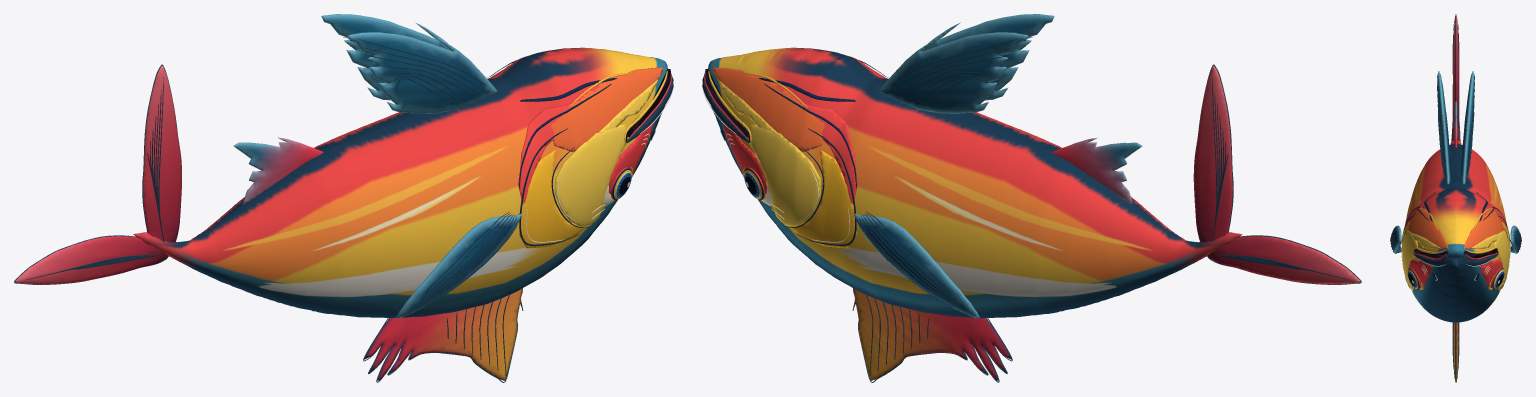
The model's file is hero-tuna.glb.
3 views of the same model, side by side, from view 1: azimuth 30°, elevation 25°; view 2: azimuth 150°, elevation 25°; view 3: azimuth 270°, elevation 25° (orthographic). The views are drawn at different scales.
Parts seen in each view (by area): view 1: Web Painted body, Web Painted fin membranes, Web Painted fin membranes.001, Web Anatomy operculum, Web Anatomy jaw, Web Fin ray pigment, Web Anatomy suboperculum, Web Anatomy membrane, Web Anatomy ink, Web Fin ray pigment.001, Web Anatomy brow, Web Glazed fin edges.001 (+2 smaller); view 2: Web Painted body, Web Painted fin membranes, Web Painted fin membranes.001, Web Anatomy operculum, Web Anatomy jaw, Web Anatomy suboperculum, Web Fin ray pigment, Web Anatomy membrane, Web Anatomy ink, Web Fin ray pigment.001, Web Anatomy brow, Web Glazed fin edges.001 (+1 smaller); view 3: Web Painted body, Web Painted fin membranes, Web Anatomy jaw, Web Anatomy operculum, Web Fin ray pigment, Web Anatomy brow, Web Painted fin membranes.001, Web Anatomy maxilla, Web Anatomy ink, Web Anatomy gold, Web Anatomy mouth, Web Anatomy membrane (+6 smaller).
Boxes of the visible parts, x1=… form: Web Painted body: x1=133, y1=47, x2=667, y2=317; Web Painted fin membranes: x1=233, y1=14, x2=522, y2=381; Web Painted fin membranes.001: x1=15, y1=66, x2=181, y2=284; Web Anatomy operculum: x1=555, y1=124, x2=628, y2=226; Web Anatomy jaw: x1=551, y1=67, x2=663, y2=151; Web Fin ray pigment: x1=343, y1=37, x2=518, y2=375; Web Anatomy suboperculum: x1=519, y1=149, x2=586, y2=248; Web Anatomy membrane: x1=518, y1=86, x2=600, y2=204; Web Anatomy ink: x1=487, y1=60, x2=655, y2=245; Web Fin ray pigment.001: x1=24, y1=77, x2=164, y2=280; Web Anatomy brow: x1=609, y1=123, x2=653, y2=199; Web Glazed fin edges.001: x1=14, y1=64, x2=181, y2=284; Web Painted body: x1=708, y1=47, x2=1242, y2=317; Web Painted fin membranes: x1=852, y1=14, x2=1142, y2=381; Web Painted fin membranes.001: x1=1194, y1=66, x2=1360, y2=284; Web Anatomy operculum: x1=747, y1=124, x2=820, y2=226; Web Anatomy jaw: x1=712, y1=67, x2=824, y2=151; Web Anatomy suboperculum: x1=789, y1=149, x2=856, y2=248; Web Fin ray pigment: x1=857, y1=37, x2=1032, y2=376; Web Anatomy membrane: x1=776, y1=86, x2=857, y2=204; Web Anatomy ink: x1=720, y1=60, x2=888, y2=245; Web Fin ray pigment.001: x1=1211, y1=78, x2=1351, y2=280; Web Anatomy brow: x1=722, y1=123, x2=766, y2=199; Web Glazed fin edges.001: x1=1193, y1=64, x2=1361, y2=284; Web Painted body: x1=1405, y1=119, x2=1506, y2=322; Web Painted fin membranes: x1=1391, y1=71, x2=1521, y2=381; Web Anatomy jaw: x1=1407, y1=209, x2=1504, y2=248; Web Anatomy operculum: x1=1402, y1=231, x2=1509, y2=289; Web Fin ray pigment: x1=1390, y1=76, x2=1521, y2=378; Web Anatomy brow: x1=1409, y1=259, x2=1502, y2=288; Web Painted fin membranes.001: x1=1453, y1=15, x2=1459, y2=130; Web Anatomy maxilla: x1=1414, y1=254, x2=1497, y2=266; Web Anatomy ink: x1=1401, y1=192, x2=1510, y2=289; Web Anatomy gold: x1=1411, y1=233, x2=1500, y2=248; Web Anatomy mouth: x1=1413, y1=248, x2=1498, y2=260; Web Anatomy membrane: x1=1403, y1=202, x2=1508, y2=233.
Bounding box in the file's own units: 1.31 × 0.7659 × 0.3506.
Materials: 23 (1 with a texture image).
